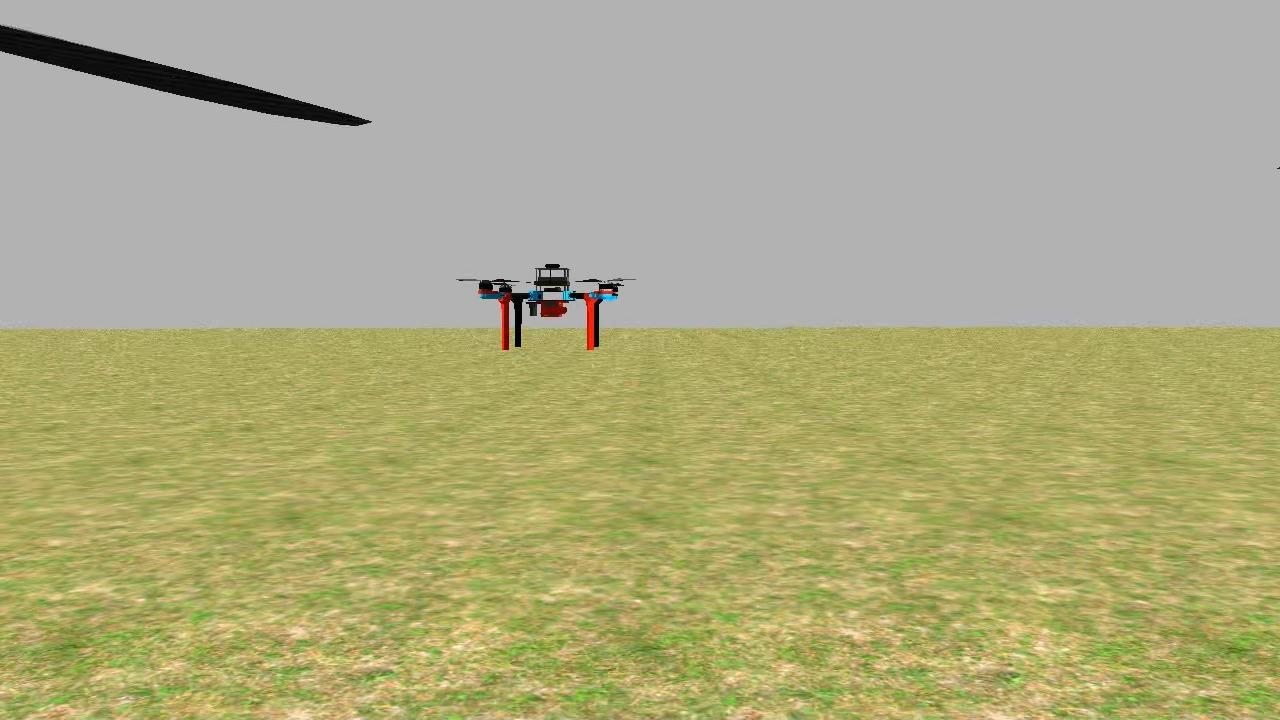UAV: (472, 262, 626, 360)
